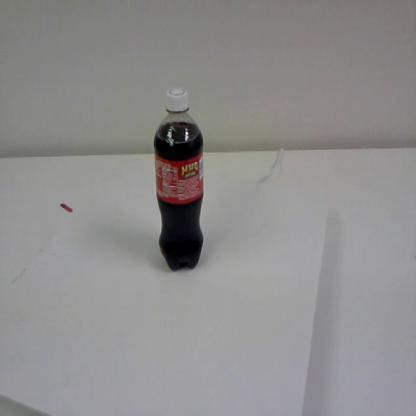bottle: (152, 83, 208, 274)
